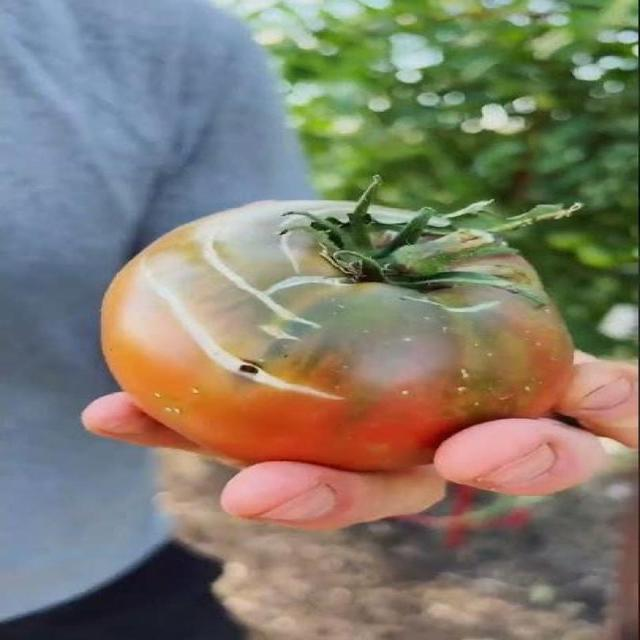Cracking Fruit: (64, 25, 294, 217)
